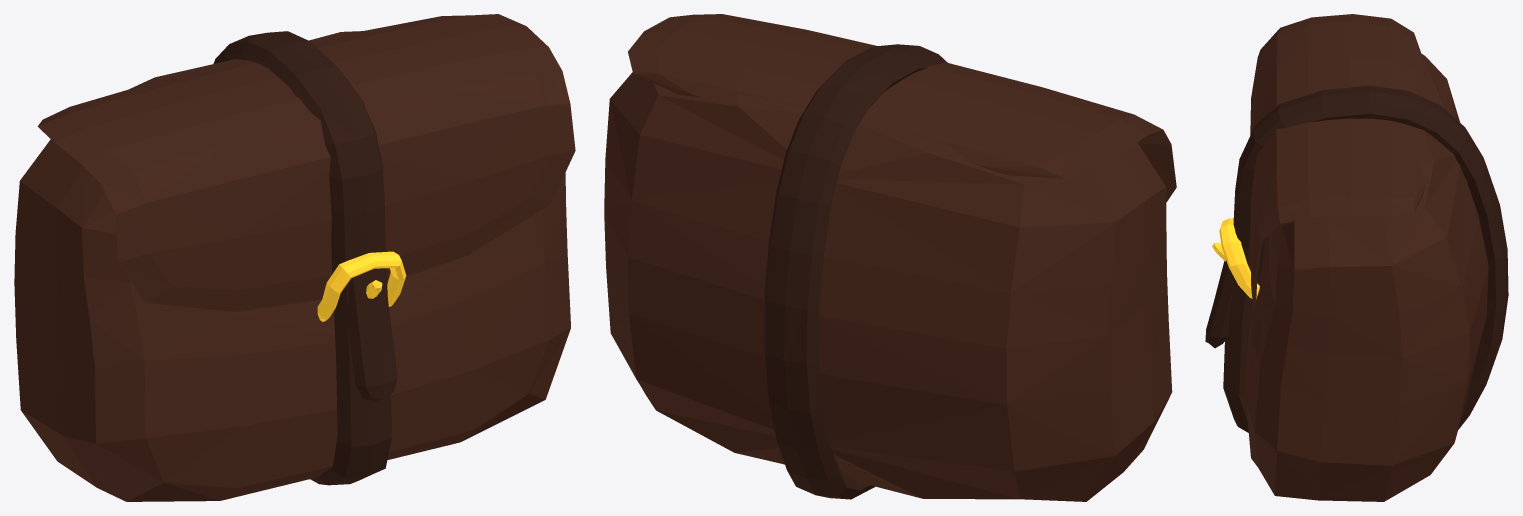
Rendered from bag.glb.
The picture shows the model from 3 angles, left to right: view 1: azimuth 30°, elevation 25°; view 2: azimuth 150°, elevation 25°; view 3: azimuth 270°, elevation 25°; orthographic projection. The views are drawn at different scales.
Parts seen in each view (by area): view 1: Bag; view 2: Bag; view 3: Bag.
Part boxes in pixels (x1,y1,x2,y2): Bag: [14, 14, 575, 501]; Bag: [604, 14, 1176, 501]; Bag: [1205, 14, 1508, 501].
Size of the model in its own units: 80.17 by 62.74 by 48.67.
